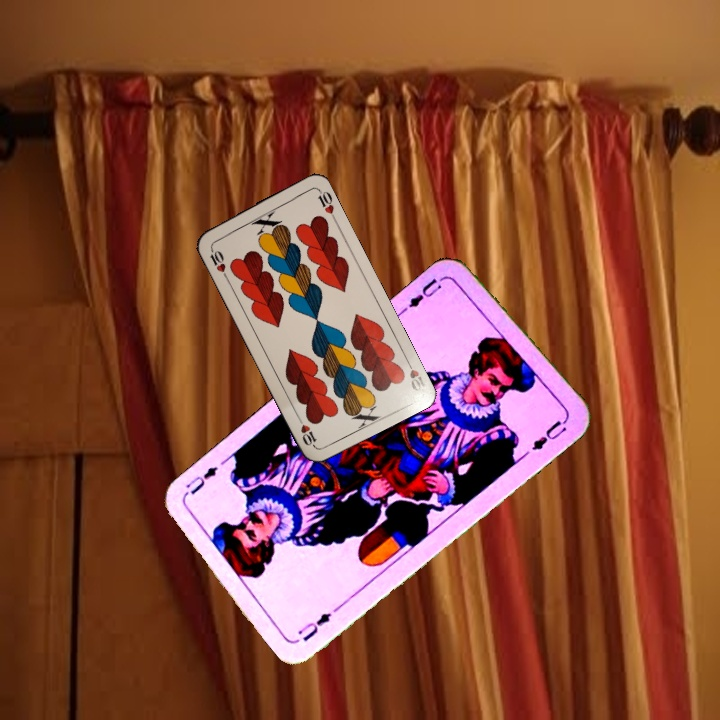EU: (399, 271, 449, 315), (294, 608, 335, 644)
H10: (402, 354, 429, 394), (206, 243, 230, 281)
